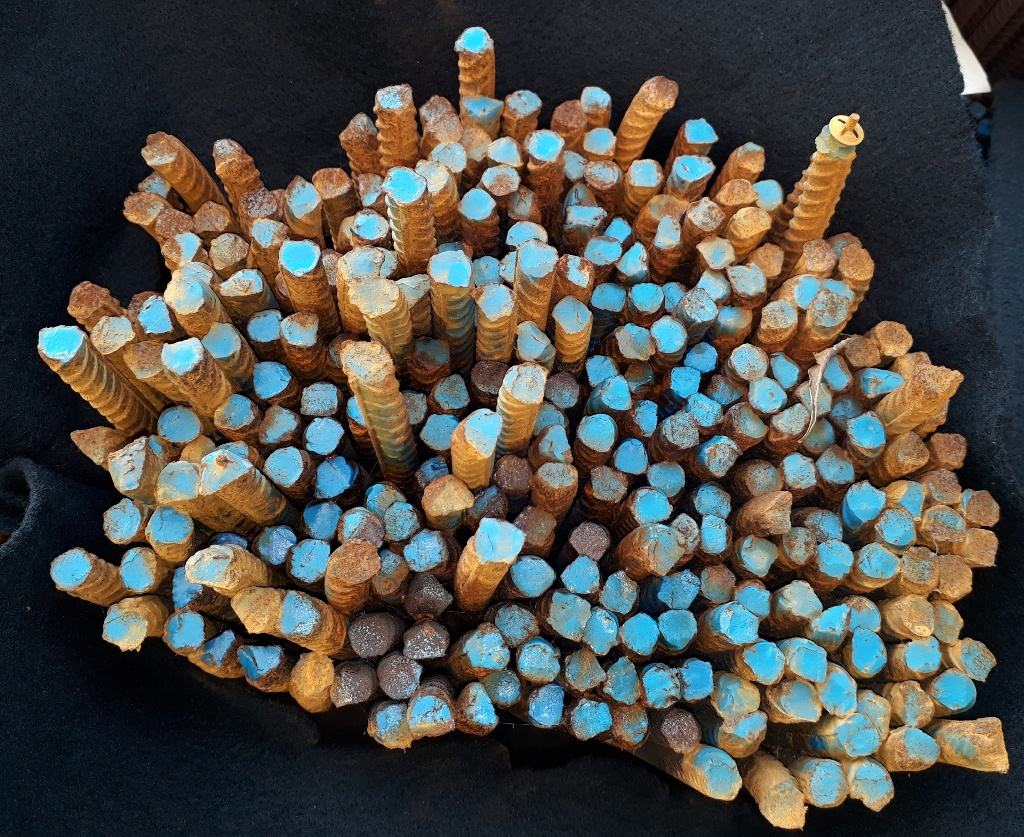dipstick: (106, 436, 154, 490), (638, 524, 687, 572), (455, 682, 498, 736), (966, 721, 1011, 772), (371, 702, 415, 754), (404, 571, 453, 617), (199, 449, 247, 495), (293, 652, 333, 707), (330, 539, 381, 582), (237, 642, 285, 687), (229, 584, 275, 630), (408, 690, 454, 736), (533, 461, 579, 507), (759, 782, 808, 825), (196, 623, 238, 673), (465, 623, 511, 668), (476, 518, 524, 561), (818, 664, 858, 715), (379, 651, 421, 699), (913, 360, 961, 402), (421, 476, 470, 517), (900, 546, 940, 596), (47, 549, 92, 593), (696, 757, 740, 802), (852, 763, 897, 807), (163, 609, 206, 655), (548, 592, 590, 639), (421, 409, 463, 455), (510, 554, 556, 596), (336, 506, 383, 547), (147, 505, 195, 545), (153, 460, 199, 501), (278, 589, 319, 635), (506, 361, 547, 407), (808, 761, 849, 807), (893, 681, 934, 727), (787, 637, 828, 683), (778, 582, 825, 622), (100, 610, 148, 649), (34, 325, 84, 362), (342, 340, 385, 383), (751, 489, 794, 532), (571, 699, 616, 740), (954, 637, 995, 682), (699, 437, 744, 478), (290, 536, 330, 582), (496, 603, 538, 646), (515, 319, 557, 362), (834, 714, 878, 755), (919, 503, 964, 543), (68, 425, 114, 464), (463, 409, 502, 455), (628, 486, 674, 525), (933, 670, 976, 711), (331, 662, 371, 706), (722, 711, 762, 755), (187, 545, 232, 584), (895, 730, 941, 768), (89, 316, 136, 353), (529, 680, 565, 728), (533, 425, 574, 467), (663, 710, 704, 752), (123, 340, 166, 380), (119, 549, 159, 592), (263, 444, 303, 487), (618, 613, 658, 656), (778, 680, 821, 720), (300, 417, 345, 455), (744, 643, 781, 689), (354, 278, 401, 314), (373, 547, 408, 595), (406, 530, 446, 572), (660, 571, 702, 611), (641, 663, 681, 705), (601, 574, 640, 617), (935, 553, 974, 596), (856, 542, 899, 581), (282, 176, 320, 220), (162, 337, 206, 375), (616, 321, 657, 361), (814, 539, 854, 580), (846, 483, 887, 523), (104, 499, 142, 542), (483, 669, 526, 707), (429, 251, 473, 288), (158, 404, 202, 441), (474, 285, 519, 321), (584, 610, 619, 656), (564, 652, 605, 691), (897, 595, 936, 636), (403, 623, 446, 660), (214, 392, 253, 432), (960, 527, 999, 567), (68, 283, 109, 321), (256, 405, 297, 443), (382, 502, 420, 543), (494, 455, 535, 493), (519, 642, 560, 680), (842, 596, 883, 634), (876, 505, 918, 542), (569, 523, 612, 559), (277, 240, 321, 275), (139, 132, 184, 166), (697, 234, 736, 273), (367, 482, 407, 520), (576, 412, 614, 452), (517, 240, 558, 277), (280, 308, 321, 345), (517, 508, 558, 545), (655, 611, 696, 648), (613, 701, 649, 743), (743, 459, 785, 495), (729, 343, 772, 378), (313, 459, 351, 498), (350, 618, 388, 657), (413, 333, 451, 372), (664, 413, 703, 451), (738, 535, 777, 573), (876, 319, 915, 357), (191, 199, 231, 236), (563, 555, 599, 596), (888, 432, 929, 468), (673, 511, 701, 563), (648, 458, 686, 496), (696, 515, 734, 553), (304, 503, 343, 540), (683, 392, 724, 427), (728, 260, 766, 297), (250, 361, 288, 398), (468, 483, 506, 520), (506, 184, 542, 223), (255, 524, 294, 560), (606, 661, 642, 700), (719, 607, 758, 643), (640, 74, 680, 109), (614, 242, 649, 282), (681, 659, 713, 702), (810, 602, 848, 638), (590, 466, 629, 501), (859, 693, 894, 732), (930, 600, 965, 639), (731, 402, 770, 437), (384, 169, 425, 202), (553, 295, 594, 328), (846, 415, 887, 448), (670, 152, 713, 183), (621, 358, 658, 394), (890, 481, 926, 518), (312, 165, 351, 199), (203, 323, 242, 357), (681, 287, 720, 321), (904, 636, 943, 670), (767, 350, 801, 389), (555, 253, 595, 286), (210, 234, 250, 267), (171, 564, 203, 605), (211, 139, 253, 170), (782, 453, 819, 488), (628, 280, 662, 318), (963, 493, 1001, 527), (782, 526, 816, 564), (815, 448, 854, 481), (123, 193, 163, 225), (810, 292, 851, 323), (828, 114, 864, 149), (414, 159, 450, 194), (432, 375, 468, 410), (806, 506, 843, 540), (749, 244, 787, 277), (471, 360, 509, 393), (652, 315, 685, 353), (162, 284, 203, 314), (749, 375, 784, 410), (617, 439, 651, 475), (926, 469, 962, 503), (933, 434, 969, 468), (599, 375, 632, 412), (702, 566, 735, 603), (422, 116, 464, 145), (526, 130, 564, 162), (299, 380, 337, 412), (547, 373, 579, 411), (722, 680, 760, 712), (342, 247, 382, 277), (163, 234, 203, 264), (802, 238, 836, 273), (531, 402, 565, 437), (687, 199, 724, 231), (797, 383, 834, 415), (762, 298, 799, 330), (717, 178, 755, 209), (843, 246, 874, 284), (457, 188, 495, 219), (862, 366, 901, 396), (846, 334, 880, 368), (399, 273, 431, 309), (465, 93, 506, 121), (242, 189, 279, 220), (482, 163, 520, 193), (396, 391, 426, 429), (590, 279, 624, 312), (685, 340, 719, 373), (696, 485, 730, 518), (351, 211, 387, 242), (491, 136, 525, 168), (247, 310, 281, 342), (833, 395, 865, 429), (751, 179, 786, 210), (414, 455, 449, 486), (736, 585, 771, 616), (670, 364, 703, 396), (553, 99, 587, 130), (648, 194, 683, 224), (140, 301, 175, 331), (629, 399, 658, 435), (628, 159, 660, 191), (582, 84, 615, 115), (432, 143, 465, 174), (341, 113, 375, 143), (652, 216, 682, 250), (697, 269, 732, 298), (508, 221, 547, 247), (731, 208, 773, 232), (686, 116, 717, 148), (587, 354, 617, 387), (774, 403, 807, 433), (585, 236, 623, 262), (461, 124, 490, 158), (718, 303, 754, 330), (710, 378, 746, 405), (565, 204, 607, 227), (801, 420, 832, 451), (583, 159, 616, 188), (582, 129, 616, 157), (738, 137, 764, 173), (376, 84, 408, 113), (356, 173, 385, 205), (829, 230, 861, 259), (663, 278, 688, 314), (471, 255, 501, 284), (795, 277, 823, 307), (253, 221, 288, 245), (154, 210, 192, 232), (457, 26, 487, 53), (559, 149, 584, 181), (506, 90, 539, 114), (173, 264, 214, 283), (896, 351, 931, 373), (348, 398, 375, 425), (604, 217, 632, 243), (420, 96, 454, 117), (128, 294, 156, 319), (139, 176, 174, 194), (566, 184, 593, 206), (501, 253, 522, 278), (380, 247, 399, 274)
